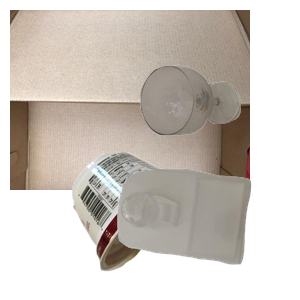cardboard: (10, 10, 250, 190)
glass: (138, 63, 300, 191)
plastic: (115, 166, 300, 300)
trash: (70, 149, 254, 300)
